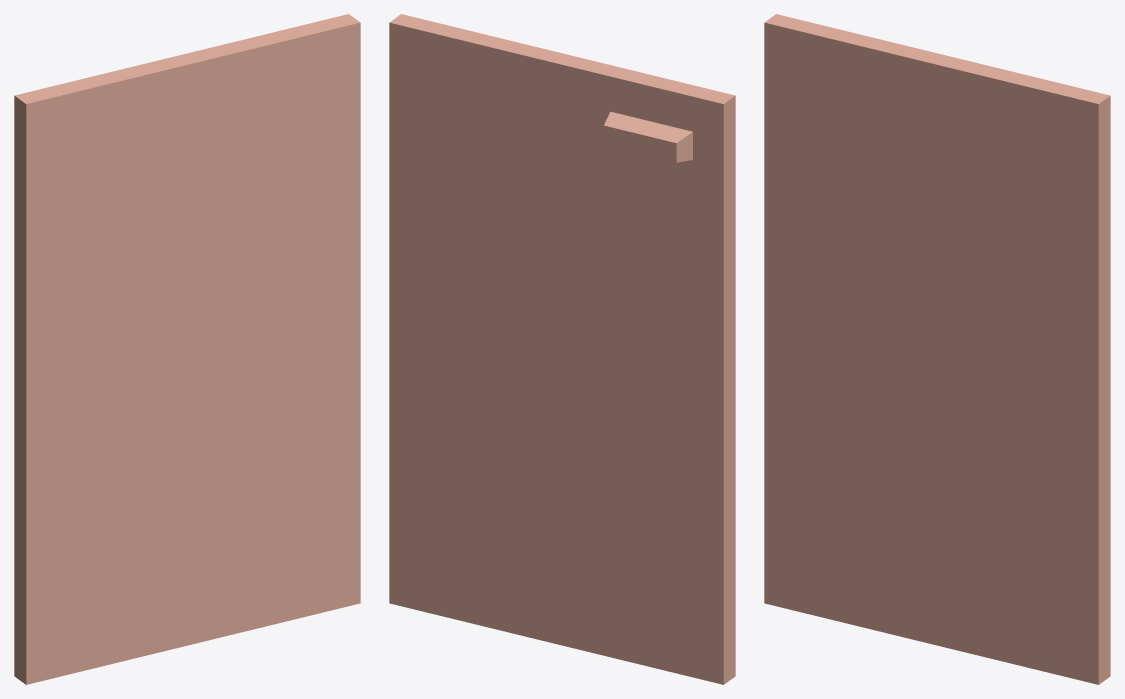
Rendered from hospital-door-left-leaf.glb.
3 renders of one model, left to right at view 1: azimuth 30°, elevation 25°; view 2: azimuth 150°, elevation 25°; view 3: azimuth 330°, elevation 25°, orthographic.
Parts seen in each view (by area): view 1: S1|SM_Door_01a_L#0; view 2: S1|SM_Door_01a_L#0; view 3: S1|SM_Door_01a_L#0.
Boxes of the visible parts, bbox=[...] form: S1|SM_Door_01a_L#0: bbox=[14, 14, 360, 684]; S1|SM_Door_01a_L#0: bbox=[389, 14, 735, 684]; S1|SM_Door_01a_L#0: bbox=[764, 14, 1110, 684].
Bounding box in the file's own units: 1.56 × 2.59 × 0.1893.
